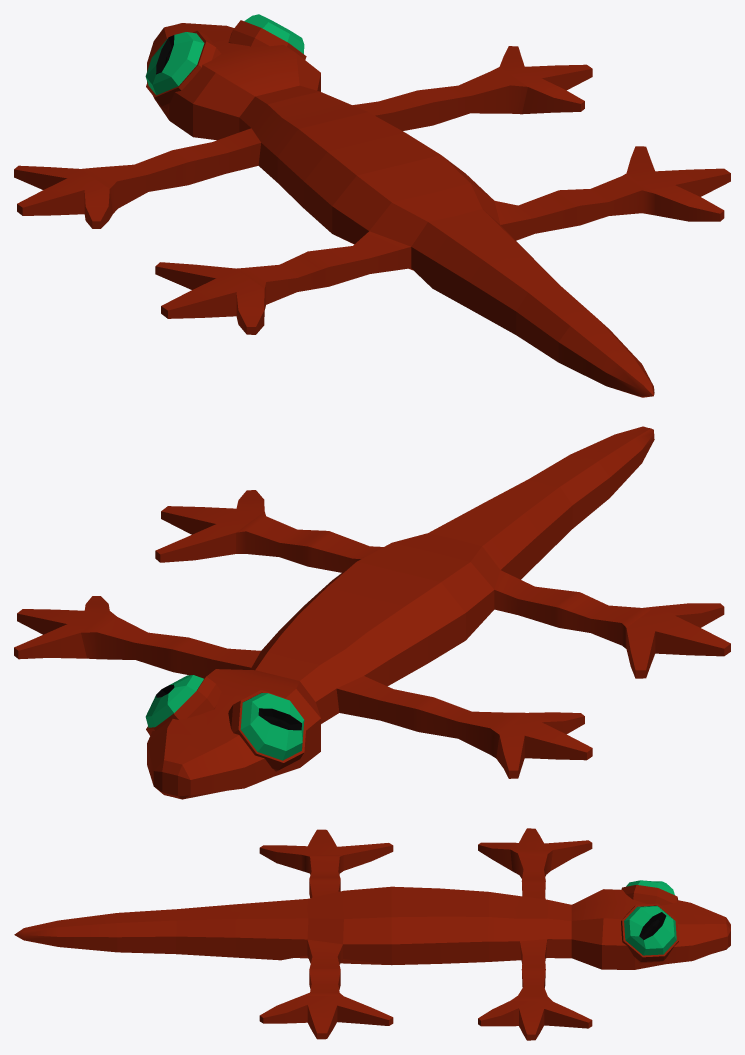
File: Newt.fbx
3 views of the same model, one above another, from view 1: azimuth 30°, elevation 25°; view 2: azimuth 150°, elevation 25°; view 3: azimuth 270°, elevation 25° (orthographic). The views are drawn at different scales.
Visible parts, largest first — view 1: polySurface3, Eye_GEO (×2), Eyelid_GEO (×2); view 2: polySurface3, Eye_GEO (×2), Eyelid_GEO (×2); view 3: polySurface3, Eye_GEO, Eyelid_GEO (×2).
Part boxes in pixels (<box>): polySurface3: <box>14,23,730,397</box>; Eye_GEO (×2): <box>145,14,304,95</box>; Eyelid_GEO (×2): <box>146,20,306,109</box>; polySurface3: <box>14,426,730,799</box>; Eye_GEO (×2): <box>145,675,304,760</box>; Eyelid_GEO (×2): <box>146,676,306,771</box>; polySurface3: <box>14,828,730,1040</box>; Eye_GEO: <box>624,905,676,955</box>; Eyelid_GEO (×2): <box>621,885,678,963</box>.
Bounding box in the file's own units: 455 × 57.71 × 669.
